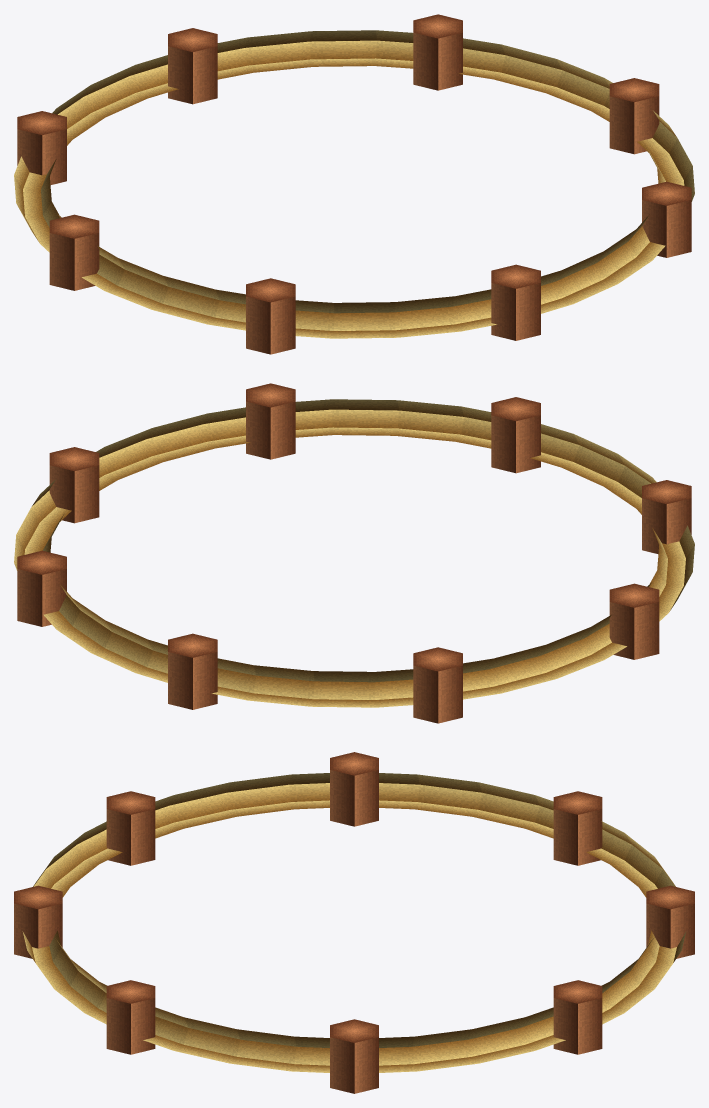
The model's file is armillary_ring.glb.
3 renders of one model, top to bottom at view 1: azimuth 30°, elevation 25°; view 2: azimuth 150°, elevation 25°; view 3: azimuth 270°, elevation 25°, orthographic. The views are drawn at different scales.
Parts seen in each view (by area): view 1: armillary_ring; view 2: armillary_ring; view 3: armillary_ring.
Boxes of the visible parts, <box> form: armillary_ring: <box>14,14,694,354</box>; armillary_ring: <box>14,383,694,723</box>; armillary_ring: <box>14,752,694,1093</box>.
Bounding box in the file's own units: 1.96 × 0.16 × 1.94.
1 material, 1 textured.
